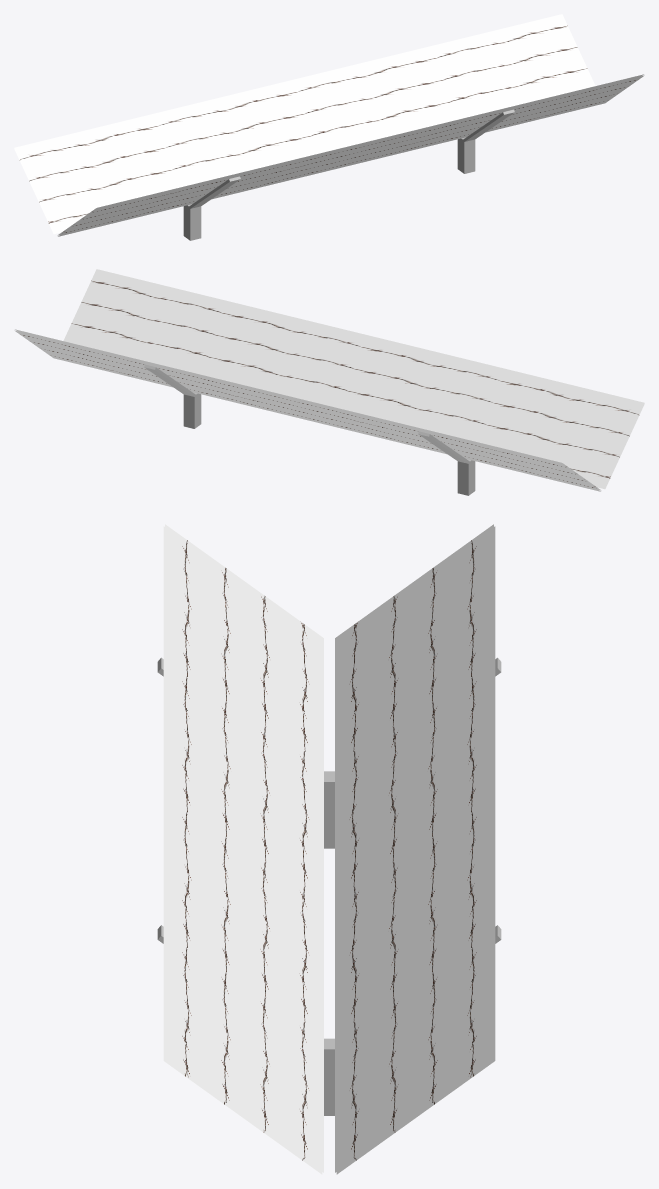
The model's file is barbedWire2.FBX.
The picture shows the model from 3 angles, top to bottom: view 1: azimuth 30°, elevation 25°; view 2: azimuth 150°, elevation 25°; view 3: azimuth 270°, elevation 25°; orthographic projection. The views are drawn at different scales.
Visible parts, largest first — view 1: barbedWire2; view 2: barbedWire2; view 3: barbedWire2.
Part boxes in pixels (x1,y1,x2,y2): barbedWire2: (14,14,644,240); barbedWire2: (14,269,644,495); barbedWire2: (157,524,501,1174).
Size of the model in its own units: 2.5 by 0.4042 by 0.6788.
